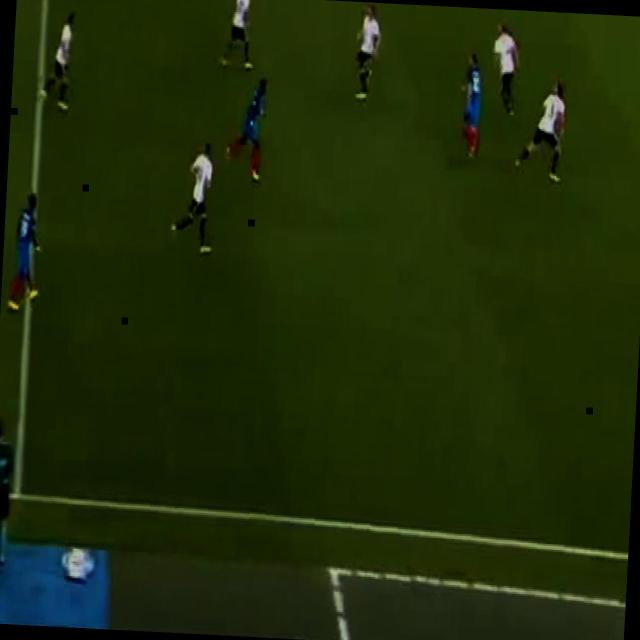player-white: (169, 141, 217, 257), (514, 80, 566, 184), (224, 75, 268, 183), (6, 190, 44, 312), (39, 11, 76, 112), (353, 2, 383, 102), (491, 22, 520, 118), (458, 50, 483, 160), (220, 0, 256, 70), (0, 417, 15, 573)
